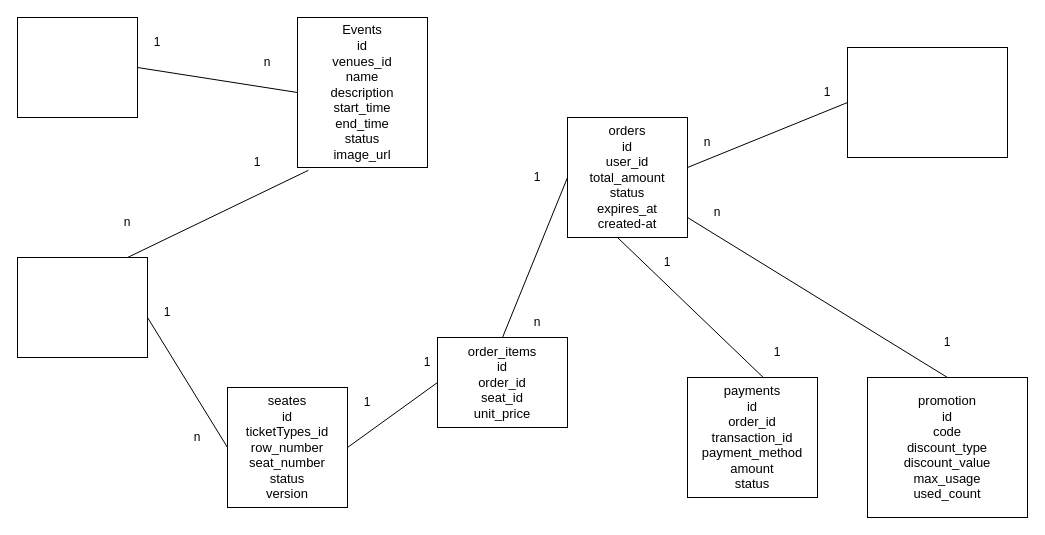
Some shapes in this 1045 by 535 pixel diagram are drawn without their labels. The centre of each missing label's shape, as x and y in pixels:
ticket_types id event_id name price total_quantity: pixel 82 307
users id email password fullname role: pixel 927 102
Venues id name address map_url: pixel 77 67
